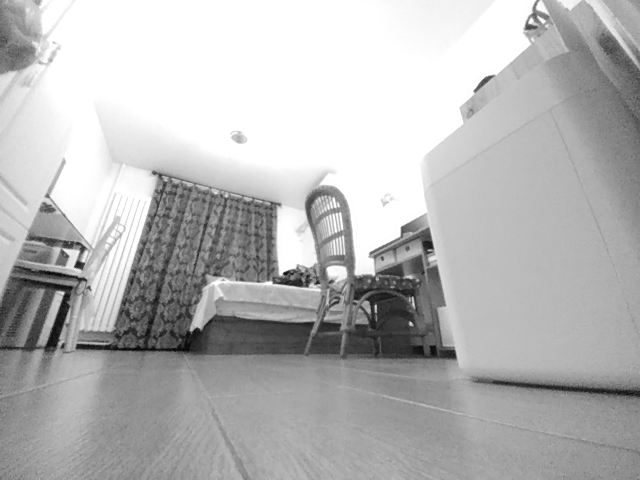curtain: (102, 171, 202, 351)
